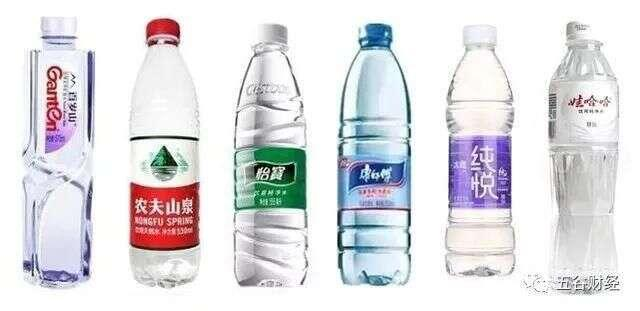bottle: (16, 11, 98, 293), (92, 14, 174, 291), (13, 21, 94, 289), (441, 21, 518, 283), (541, 0, 625, 145), (230, 0, 312, 136)
